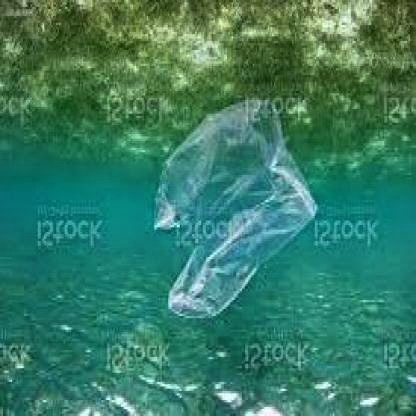pbag: (154, 98, 319, 323)
